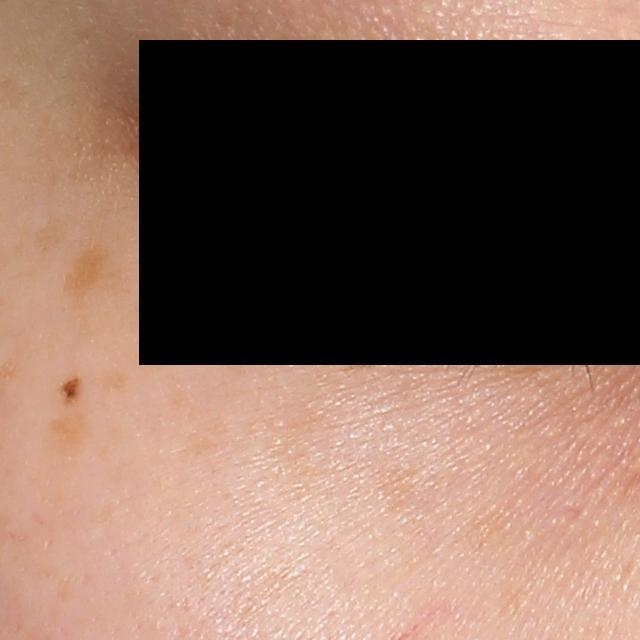melasma: (62, 240, 123, 297), (122, 286, 191, 336), (33, 214, 78, 259), (52, 413, 88, 460), (98, 368, 129, 393)
